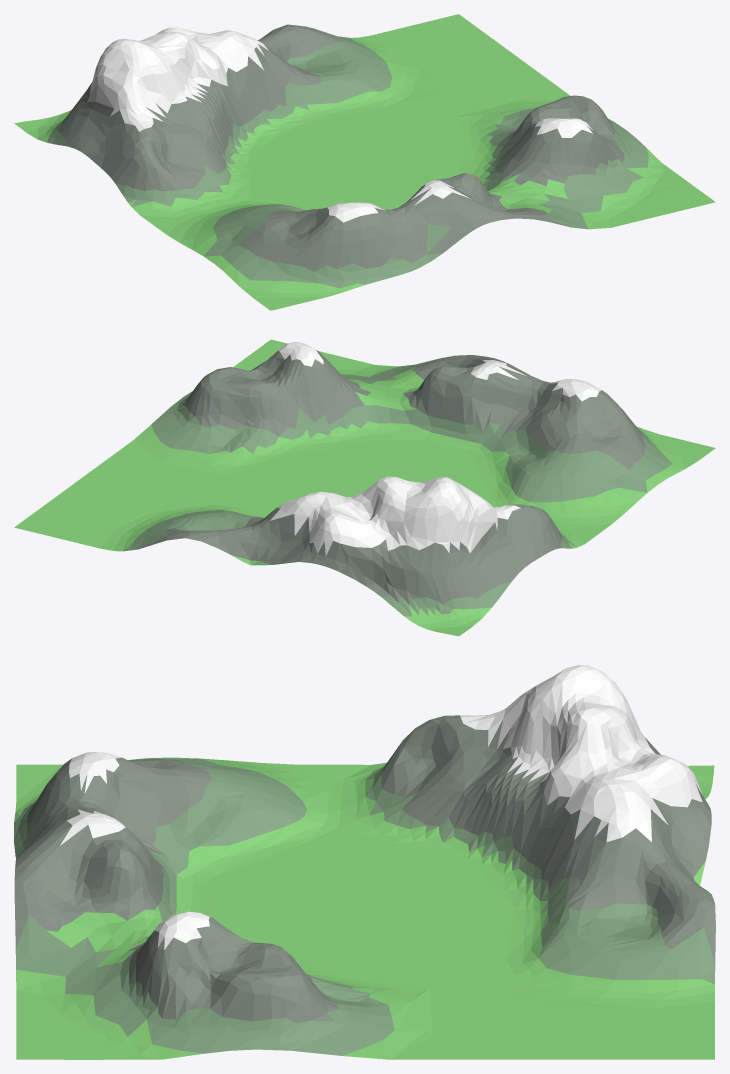
File: map.fbx
The picture shows the model from 3 angles, top to bottom: view 1: azimuth 30°, elevation 25°; view 2: azimuth 150°, elevation 25°; view 3: azimuth 270°, elevation 25°; orthographic projection. The views are drawn at different scales.
Parts seen in each view (by area): view 1: Grid; view 2: Grid; view 3: Grid.
Boxes of the visible parts, bbox=[...] form: Grid: bbox=[14, 14, 715, 310]; Grid: bbox=[14, 339, 715, 636]; Grid: bbox=[14, 665, 715, 1059].
Bounding box in the file's own units: 10004 × 2254 × 10049.
